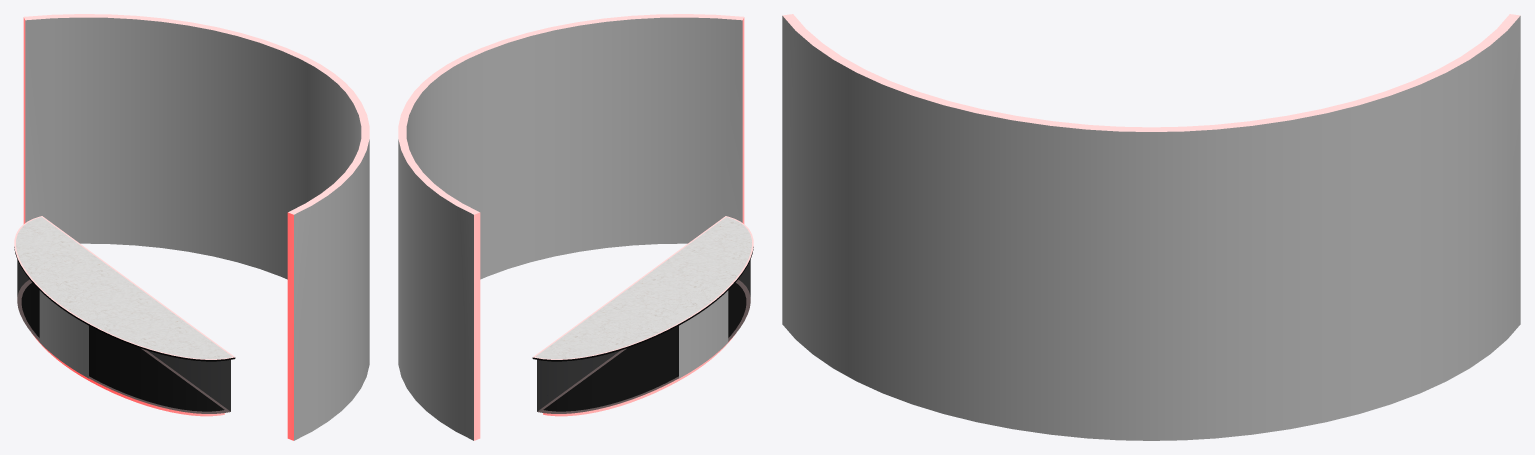
The model's file is Event (1).fbx.
3 renders of one model, left to right at view 1: azimuth 30°, elevation 25°; view 2: azimuth 150°, elevation 25°; view 3: azimuth 270°, elevation 25°, orthographic. The views are drawn at different scales.
Parts seen in each view (by area): view 1: Backstage, Event; view 2: Backstage, Event; view 3: Backstage.
Boxes of the visible parts, x1,y1,x2,y2 form: Backstage: (23, 14, 369, 440); Event: (14, 216, 235, 416); Backstage: (398, 14, 744, 440); Event: (532, 216, 753, 416); Backstage: (782, 14, 1520, 440).
Bounding box in the file's own units: 2.4 × 1.9 × 4.11.
